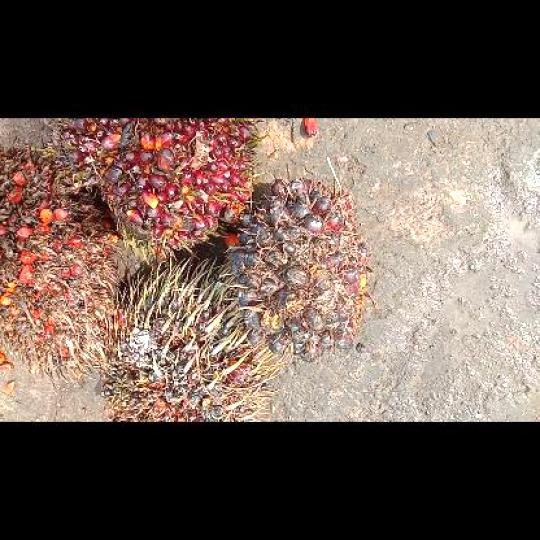masak: (45, 117, 254, 256)
terlalu masak: (0, 142, 119, 377)
